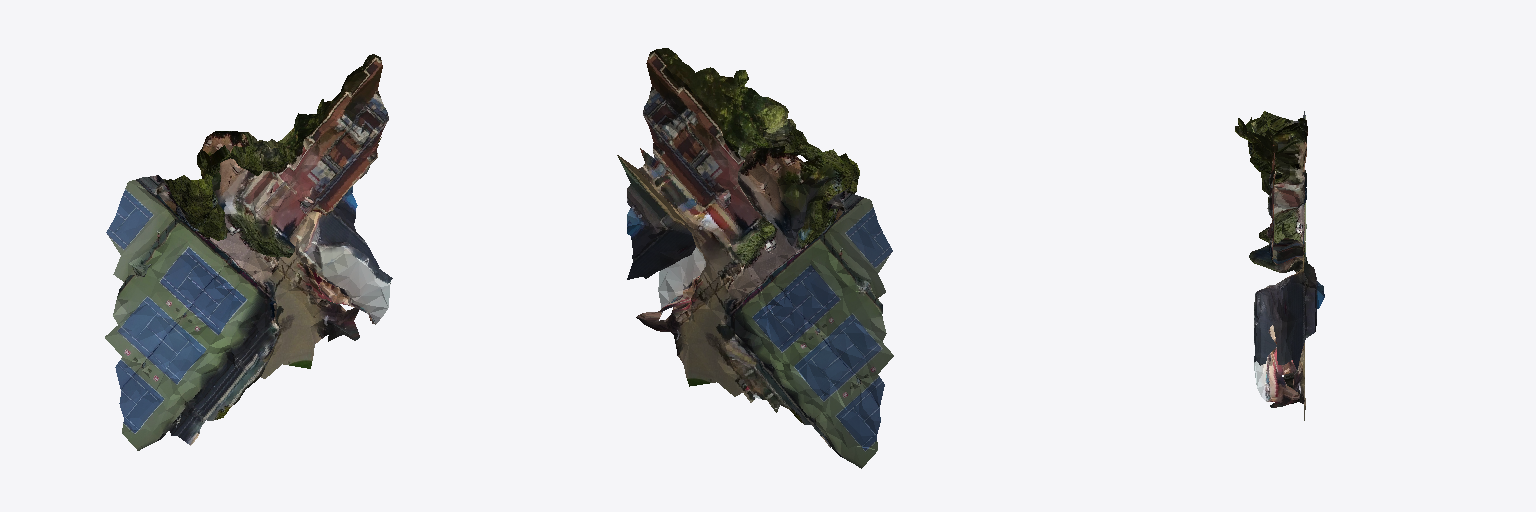
3 views of the same model, side by side, from view 1: azimuth 30°, elevation 25°; view 2: azimuth 150°, elevation 25°; view 3: azimuth 270°, elevation 25° (orthographic).
Size of the model in its own units: 74.6 by 91.49 by 20.89.
1 materials, 1 textured.